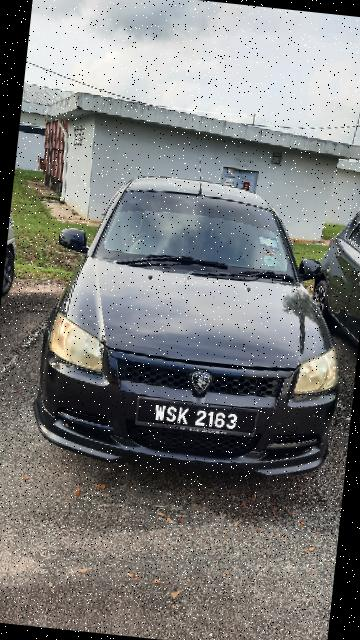License_Plate: (129, 386, 267, 448)
car: (30, 165, 359, 490)
